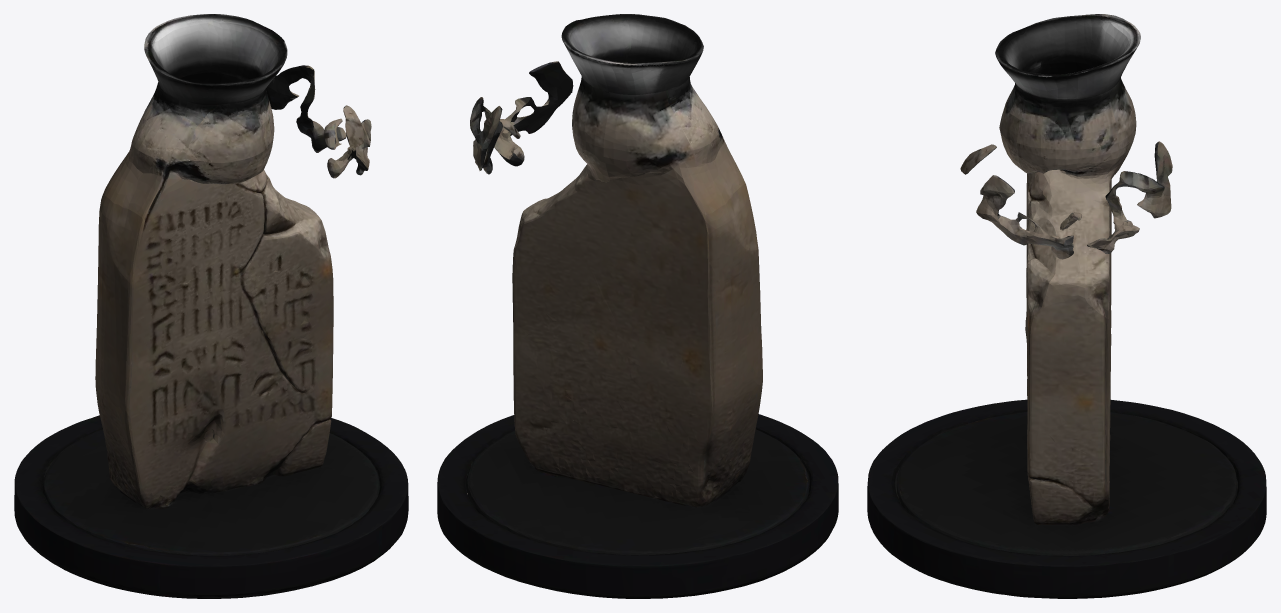
Rendered from ancient_artifact.glb.
3 views of the same model, side by side, from view 1: azimuth 30°, elevation 25°; view 2: azimuth 150°, elevation 25°; view 3: azimuth 270°, elevation 25° (orthographic). The views are drawn at different scales.
Visible parts, largest first — view 1: geometry_0; view 2: geometry_0; view 3: geometry_0.
Part boxes in pixels (x1,y1,x2,y2): geometry_0: (14,14,408,598); geometry_0: (437,14,838,598); geometry_0: (867,14,1266,598).
Bounding box in the file's own units: 0.7474 × 0.9957 × 0.7475.
Materials: 1 (1 with a texture image).
